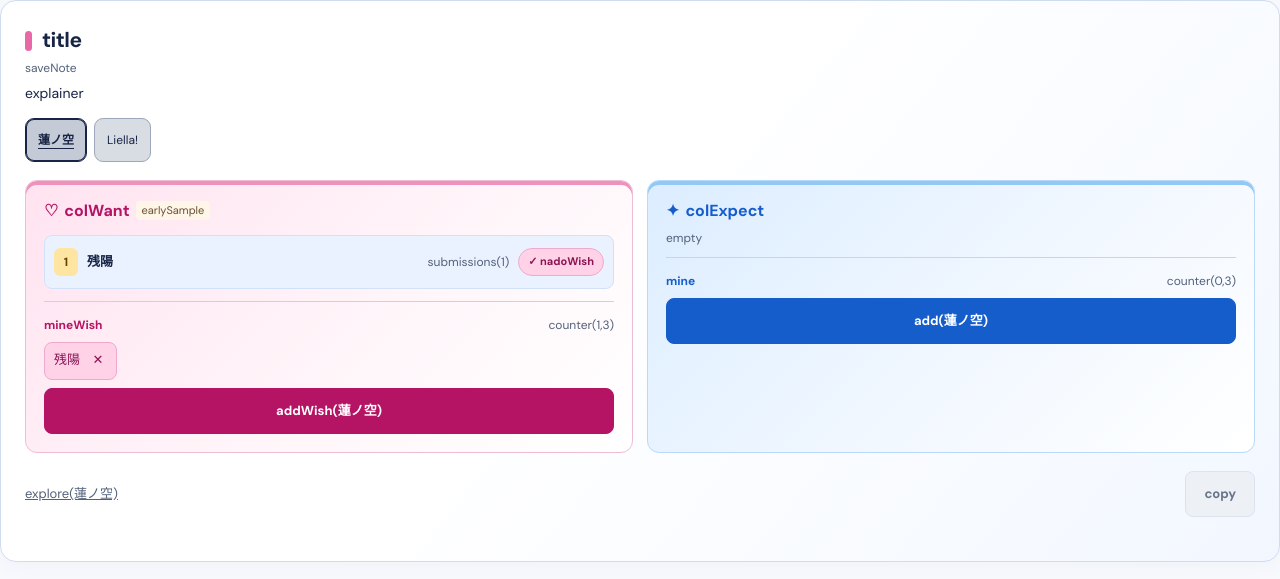
Test case: <FanBoardSection> want column › refreshes the crowd count immediately after a wish remove without reloading
expect the number of list items with test id "board-top-entry" is 1: met, box [44,234,614,288]
Click the button named "removeAria(残陽)": click(98, 360) [84,346,112,374]
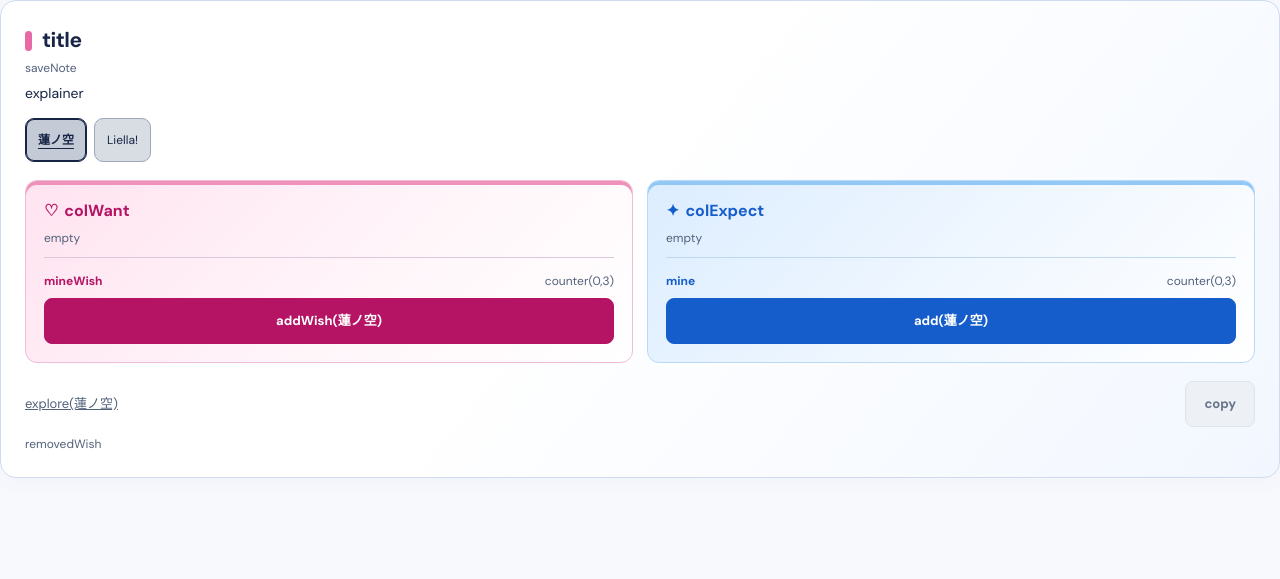
expect no list items with test id "board-top-entry" are shown: met
